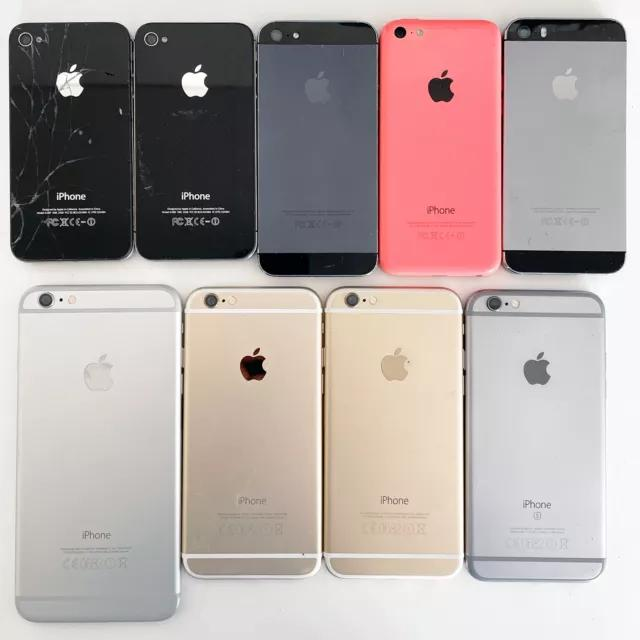mobile phone: (14, 283, 182, 622), (464, 288, 606, 581), (322, 285, 463, 579), (181, 285, 322, 579), (501, 17, 627, 273), (378, 18, 502, 276), (256, 19, 379, 277), (8, 21, 133, 261), (133, 21, 256, 260)
